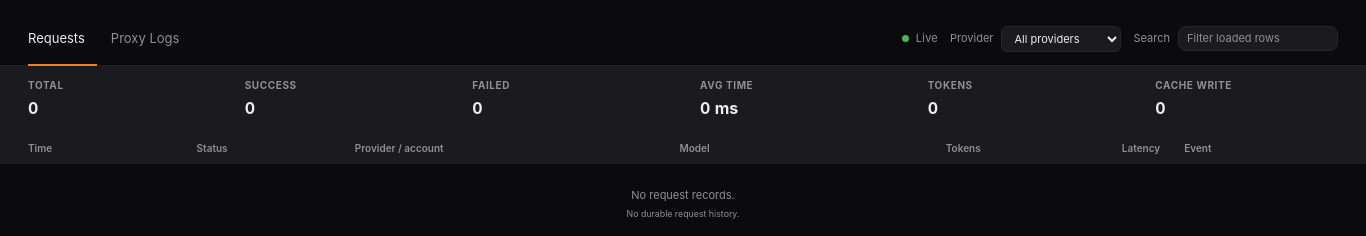
Test case: component accessibility contracts › uses exclusive log tabs and reports proxy failure only inline
Click the tab "Proxy Logs" at (145, 39), box [99,12,191,66]
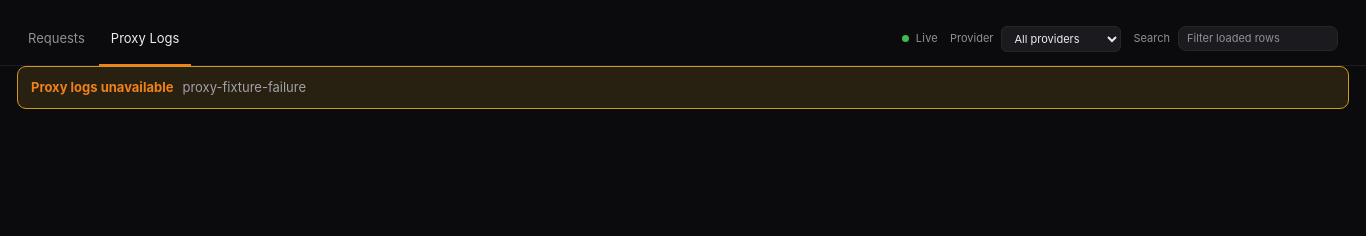
expect the text "proxy-fixture-failure" is shown: met, box [182,78,306,97]
